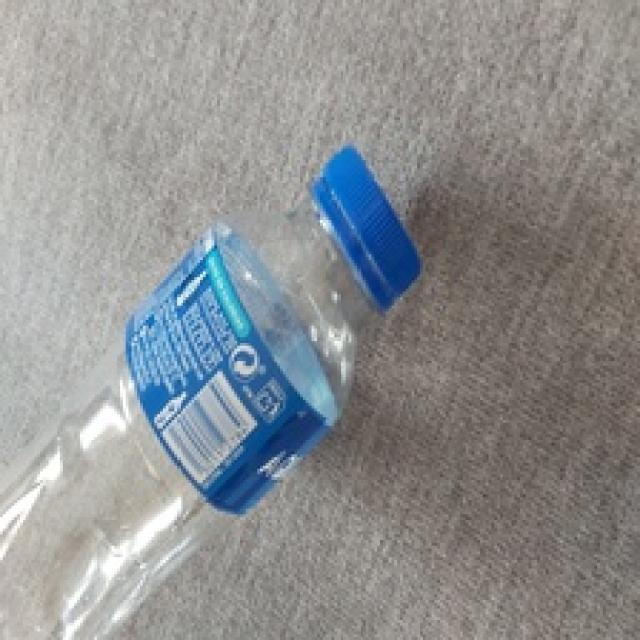Plastic: (0, 142, 428, 640)
